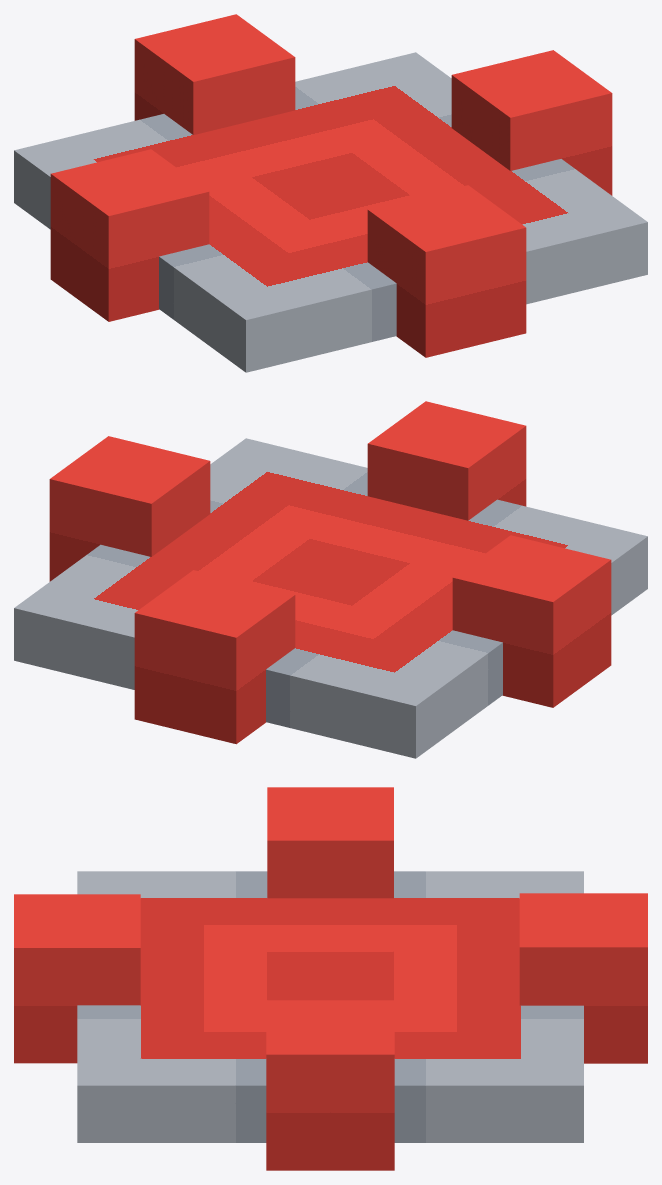
The model's file is jump_pad_super.glb.
3 renders of one model, top to bottom at view 1: azimuth 30°, elevation 25°; view 2: azimuth 150°, elevation 25°; view 3: azimuth 270°, elevation 25°, orthographic. The views are drawn at different scales.
Visible parts, largest first — view 1: cube; view 2: cube; view 3: cube.
Boxes of the visible parts, left/top/right/bottom form: cube: left=14, top=14, right=647, bottom=372; cube: left=14, top=401, right=647, bottom=758; cube: left=14, top=787, right=647, bottom=1170.
Size of the model in its own units: 1.25 by 0.2531 by 1.25.
Materials: 1 (1 with a texture image).
